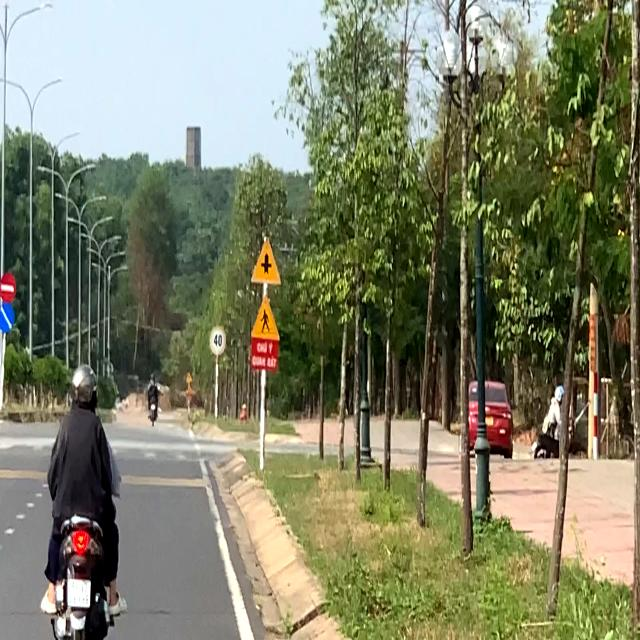P.102: (0, 272, 16, 300)
P.127: (208, 323, 226, 356)
R.302a: (0, 297, 18, 339)
W.207a: (250, 234, 282, 289)
W.224: (249, 292, 281, 344)
